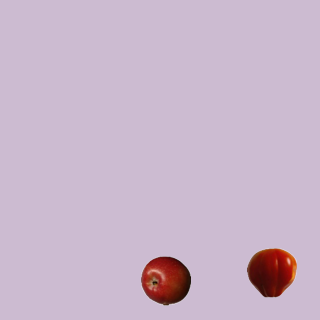Apple Braeburn: (140, 255, 190, 305)
Tomato 1: (246, 247, 296, 297)
